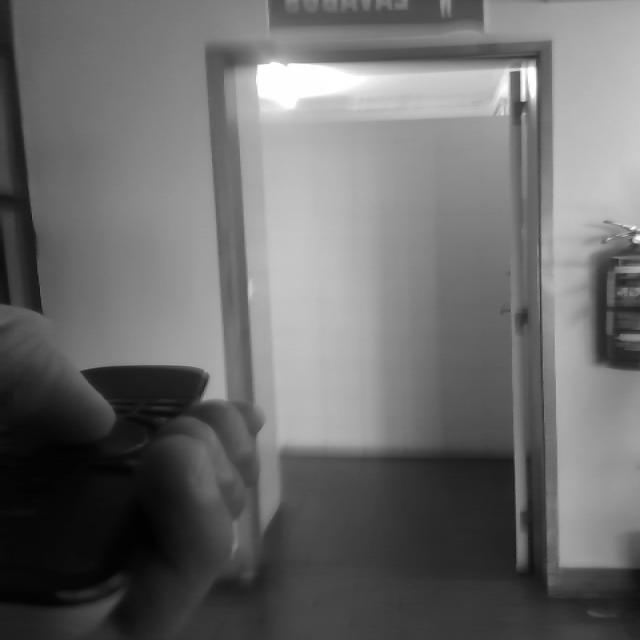door: (203, 34, 575, 598)
